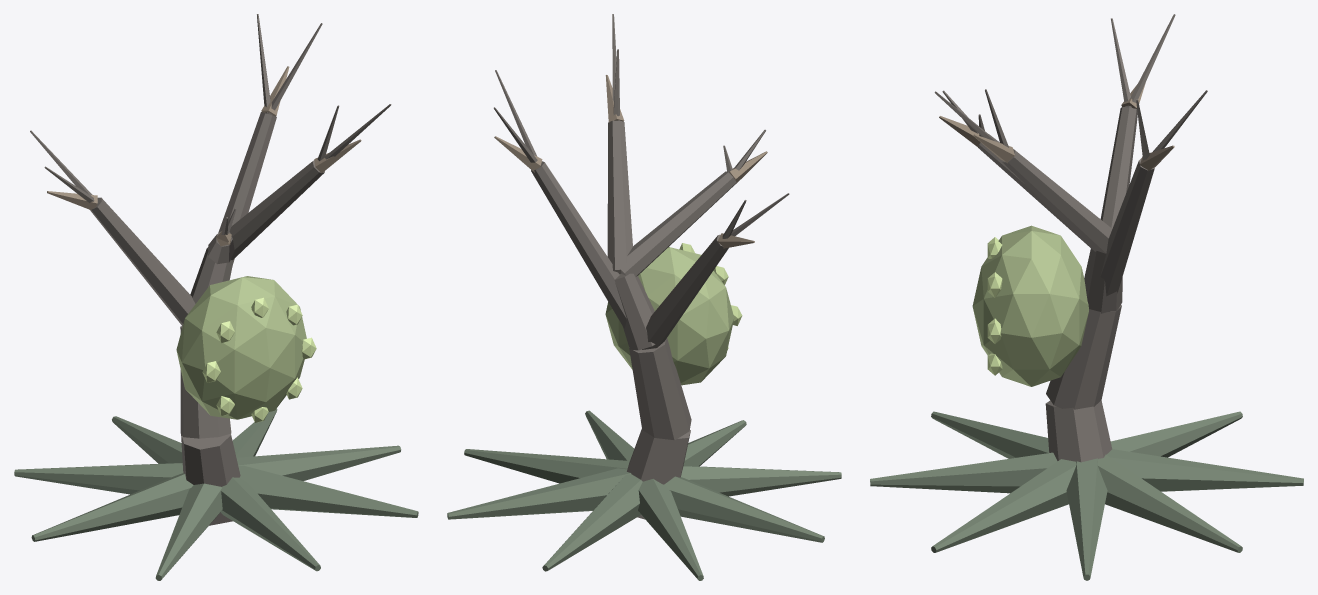
Rendered from hunger_heart_tree.glb.
3 views of the same model, side by side, from view 1: azimuth 30°, elevation 25°; view 2: azimuth 150°, elevation 25°; view 3: azimuth 270°, elevation 25° (orthographic). The views are drawn at different scales.
Parts seen in each view (by area): view 1: hunger_heart_tree_material_02, hunger_heart_tree_material_00, hunger_heart_tree_material_03, hunger_heart_tree_material_04, hunger_heart_tree_material_01; view 2: hunger_heart_tree_material_00, hunger_heart_tree_material_02, hunger_heart_tree_material_03, hunger_heart_tree_material_01; view 3: hunger_heart_tree_material_02, hunger_heart_tree_material_00, hunger_heart_tree_material_03, hunger_heart_tree_material_01, hunger_heart_tree_material_04.
Part boxes in pixels (x1,y1,x2,y2): hunger_heart_tree_material_02: (14,408,418,580); hunger_heart_tree_material_00: (30,14,391,525); hunger_heart_tree_material_03: (176,276,306,419); hunger_heart_tree_material_04: (202,297,316,422); hunger_heart_tree_material_01: (47,66,361,246); hunger_heart_tree_material_00: (493,14,789,519); hunger_heart_tree_material_02: (447,410,841,580); hunger_heart_tree_material_03: (605,247,734,385); hunger_heart_tree_material_01: (494,75,767,248); hunger_heart_tree_material_02: (870,411,1303,580); hunger_heart_tree_material_00: (934,14,1207,462); hunger_heart_tree_material_03: (972,225,1088,386); hunger_heart_tree_material_01: (939,83,1174,170); hunger_heart_tree_material_04: (987,237,1002,375).
Bounding box in the file's own units: 2.6 × 2.99 × 2.5.
